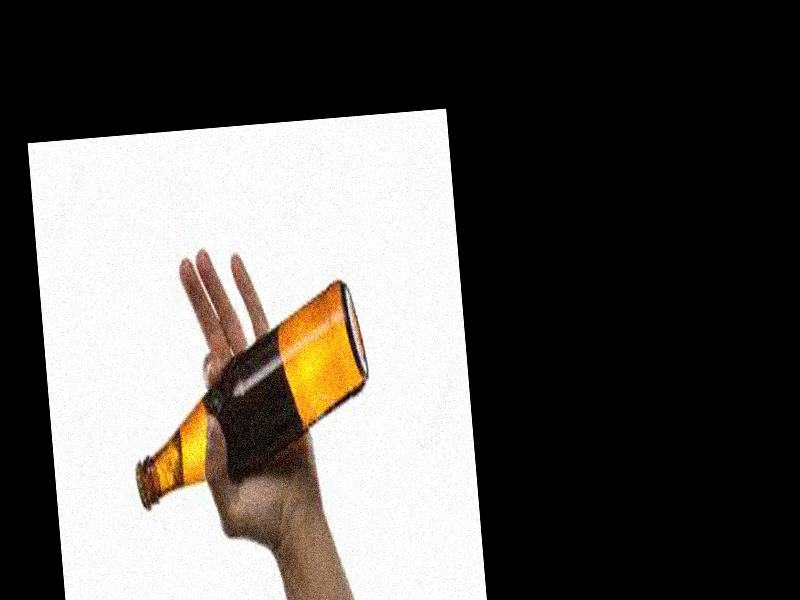Beer: (127, 284, 376, 505)
